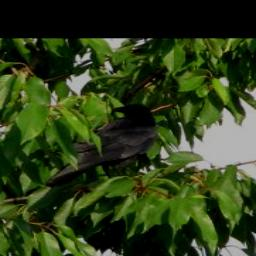Crow: (44, 103, 160, 187)
